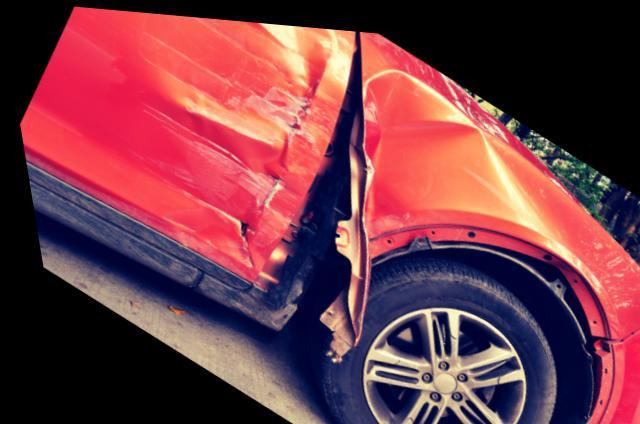crack: (232, 216, 243, 237)
dent: (131, 11, 340, 261), (361, 64, 491, 224)
dislocated part: (240, 25, 640, 330)
